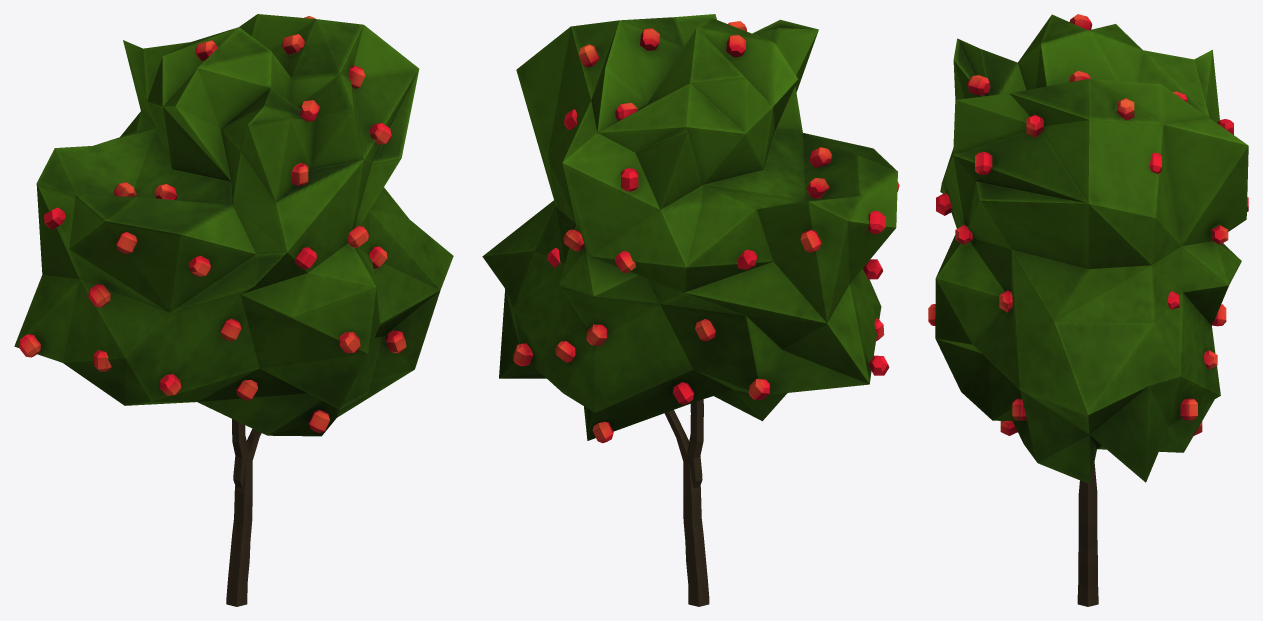
File: apple-plant.glb
3 renders of one model, left to right at view 1: azimuth 30°, elevation 25°; view 2: azimuth 150°, elevation 25°; view 3: azimuth 270°, elevation 25°, orthographic.
Visible parts, largest first — view 1: AppleTree_mesh; view 2: AppleTree_mesh; view 3: AppleTree_mesh.
Boxes of the visible parts, x1,y1,x2,y2 form: AppleTree_mesh: (14,14,453,606); AppleTree_mesh: (482,14,899,606); AppleTree_mesh: (928,14,1248,606).
Size of the model in its own units: 0.7654 by 1 by 0.5073.
Materials: 1 (1 with a texture image).
